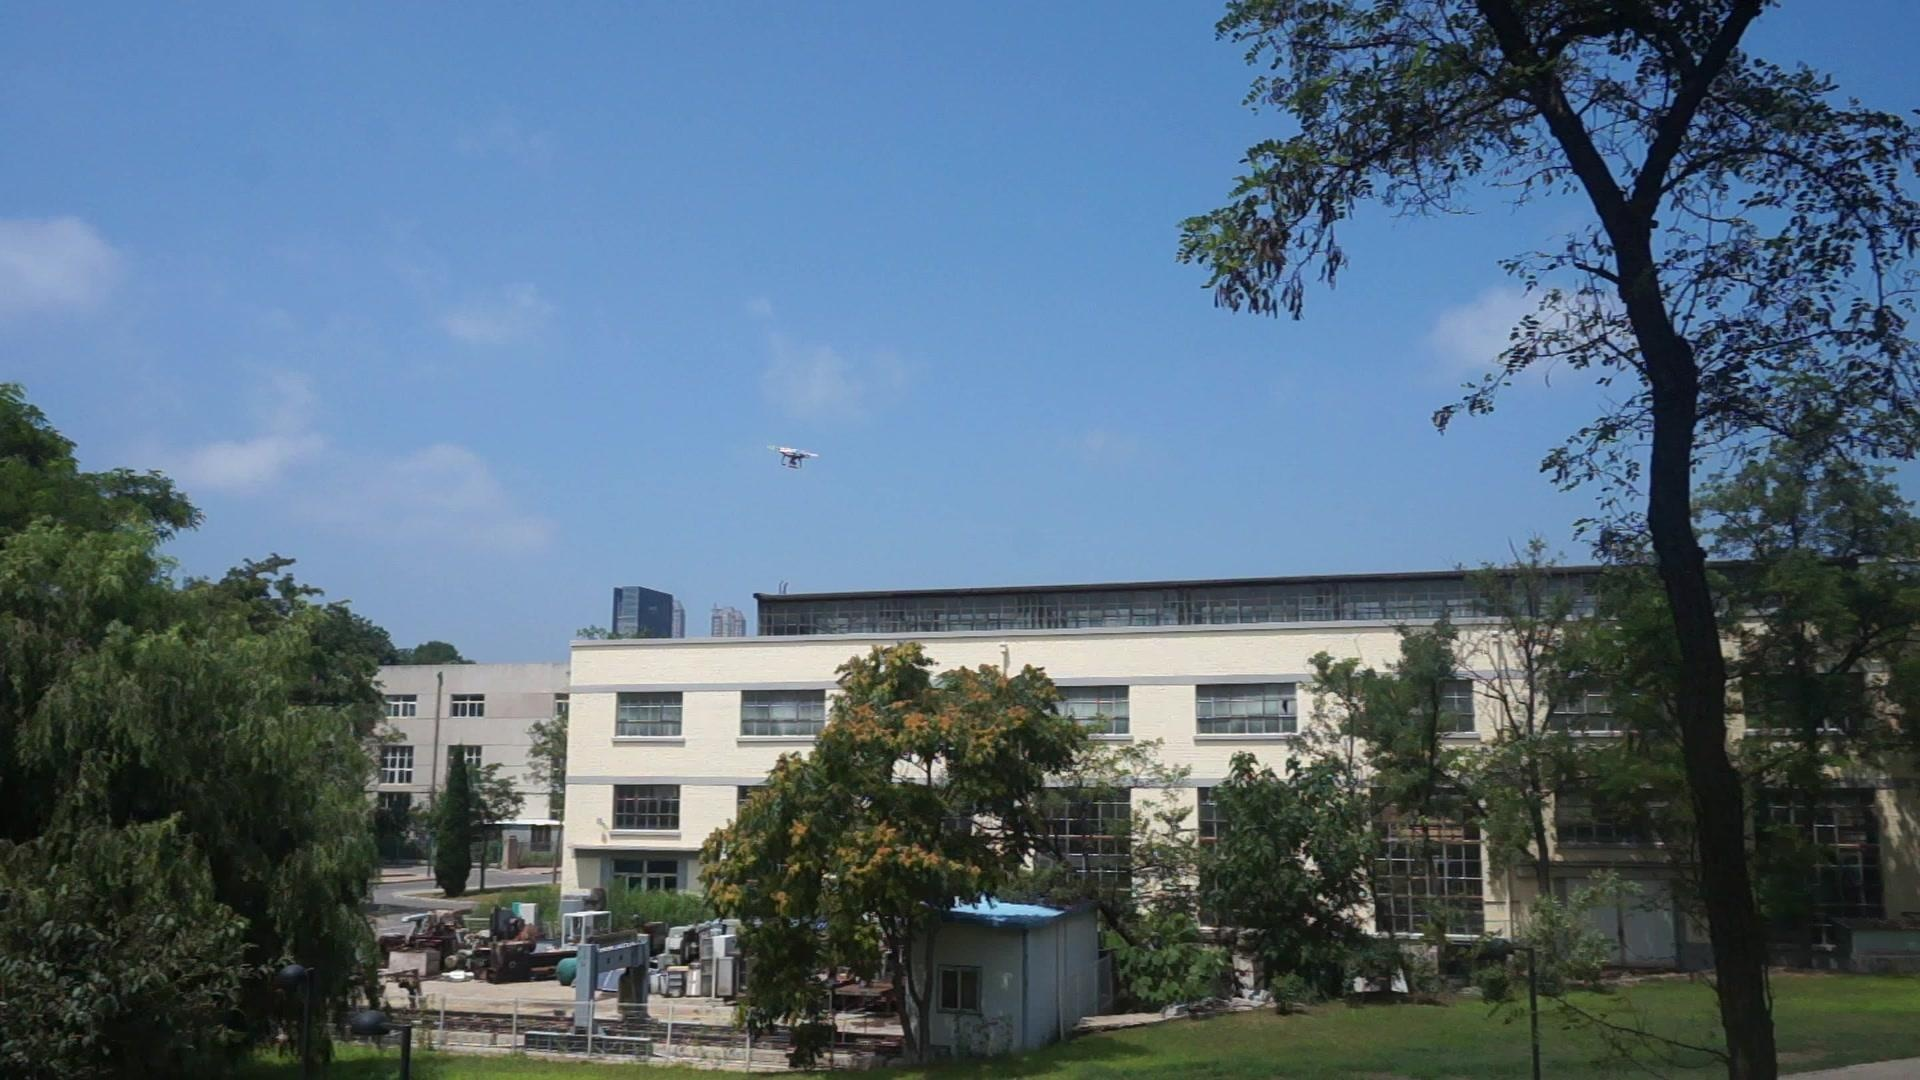UAV: (767, 444, 822, 469)
